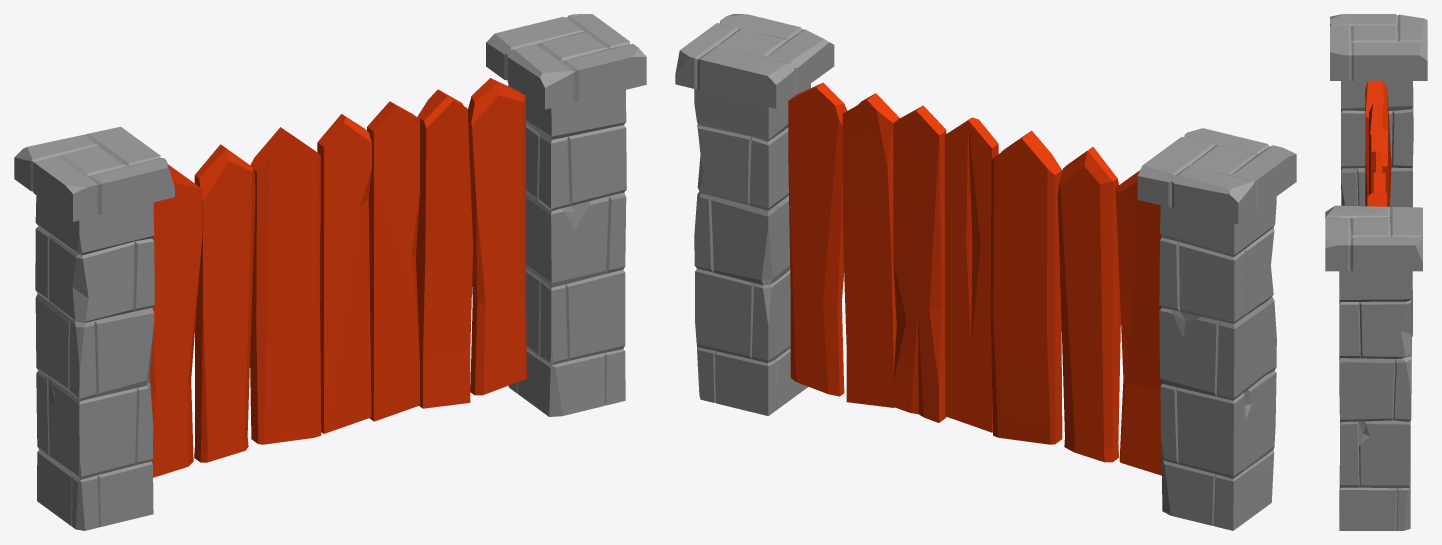
The model's file is Fence_6_3.fbx.
3 renders of one model, left to right at view 1: azimuth 30°, elevation 25°; view 2: azimuth 150°, elevation 25°; view 3: azimuth 270°, elevation 25°, orthographic. The views are drawn at different scales.
Visible parts, largest first — view 1: Fence_6_3; view 2: Fence_6_3; view 3: Fence_6_3.
Part boxes in pixels (<box>): Fence_6_3: <box>14,14,646,530</box>; Fence_6_3: <box>675,14,1296,530</box>; Fence_6_3: <box>1325,14,1427,530</box>.
Size of the model in its own units: 59.9 by 35.1 by 11.19.
